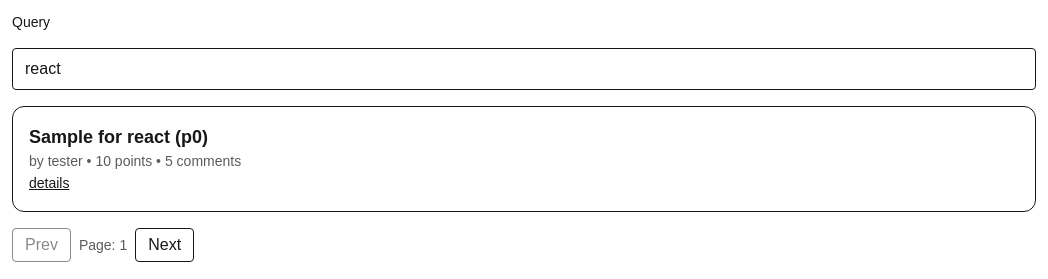
Scenario: StoryList pagination › moves to next/prev pages and shows different results
This screenshot has width=1048, height=279.
Expected: the heading "Sample for react (p0)" is shown, x1=29 y1=127 x2=208 y2=147
What coordinates should you click on to do the following:
click the button with aria-label "Next Page"
I would click on:
 (165, 245)
Its box is x1=135 y1=228 x2=194 y2=262.
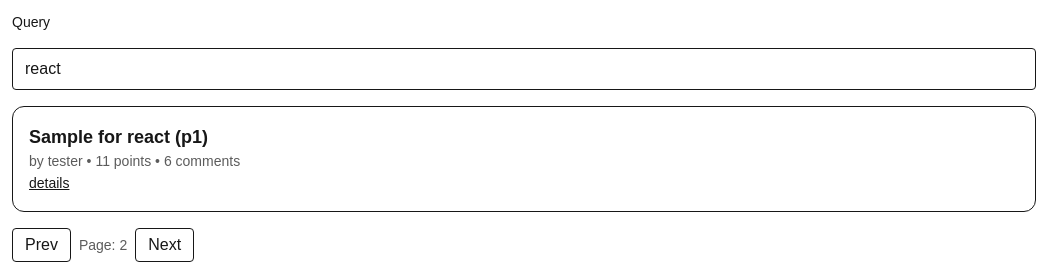
Expected: the heading "Sample for react (p1)" is shown, x1=29 y1=127 x2=208 y2=147
What coordinates should you click on to do the following:
click the button with aria-label "Prev Page"
I would click on:
 (41, 245)
Its box is x1=12 y1=228 x2=71 y2=262.
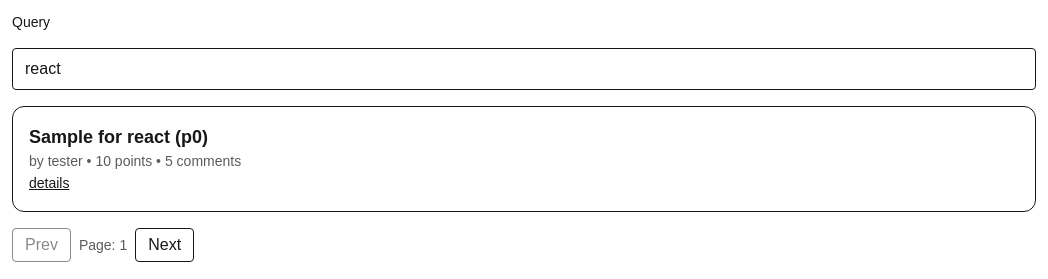
Expected: the heading "Sample for react (p0)" is shown, x1=29 y1=127 x2=208 y2=147
